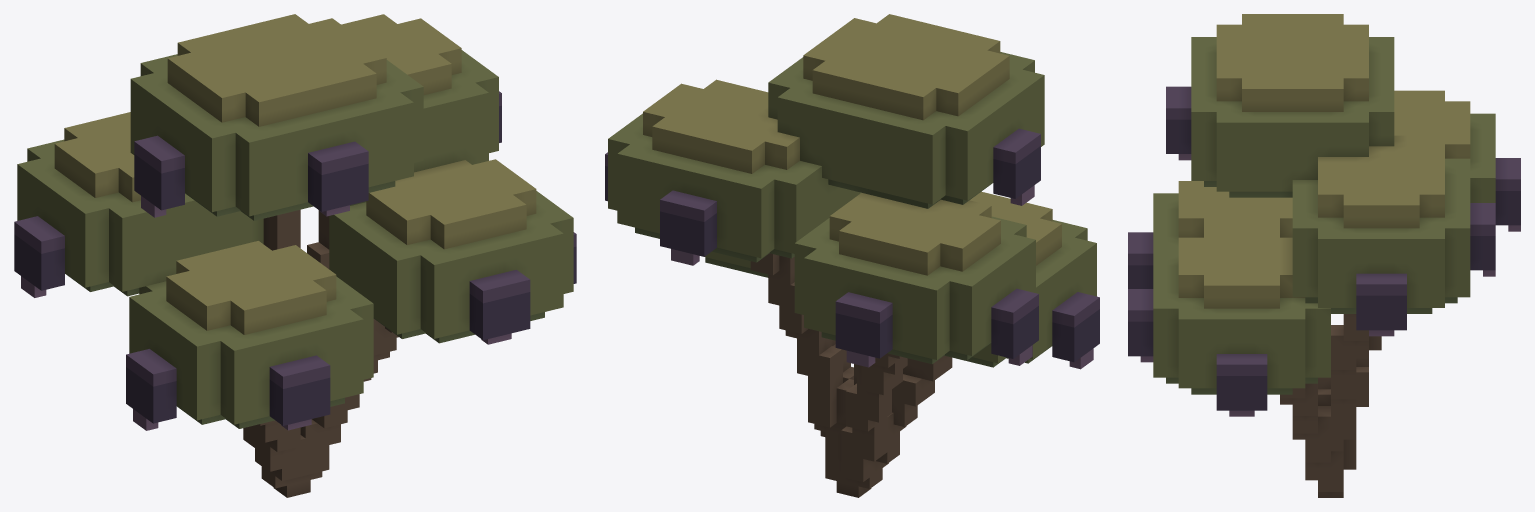
The model's file is elderberry_autumn.glb.
3 renders of one model, left to right at view 1: azimuth 30°, elevation 25°; view 2: azimuth 150°, elevation 25°; view 3: azimuth 270°, elevation 25°, orthographic. The views are drawn at different scales.
Parts seen in each view (by area): view 1: VoxelVisual; view 2: VoxelVisual; view 3: VoxelVisual.
Part boxes in pixels (<box>): VoxelVisual: <box>14,14,576,497</box>; VoxelVisual: <box>605,14,1099,497</box>; VoxelVisual: <box>1128,14,1520,497</box>.
Size of what is drawn, in the model's own units: 2.38 by 2.31 by 1.94.
